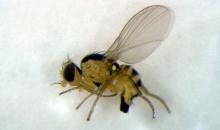Trifoli: (48, 3, 180, 123)
